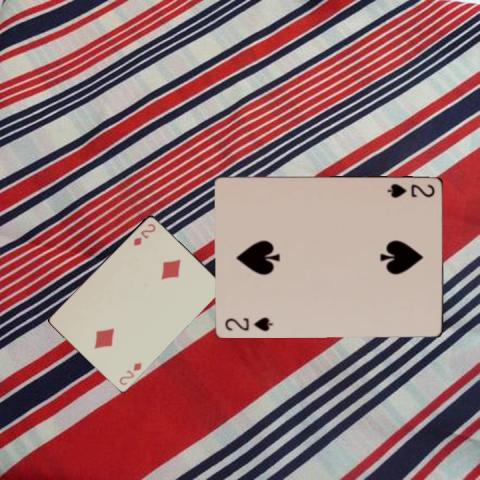2d: (116, 358, 143, 386), (131, 220, 157, 247)
2s: (385, 180, 436, 199), (222, 314, 274, 332)
